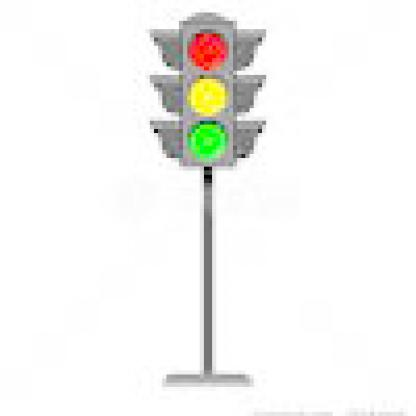traffic-light: (175, 16, 241, 171)
